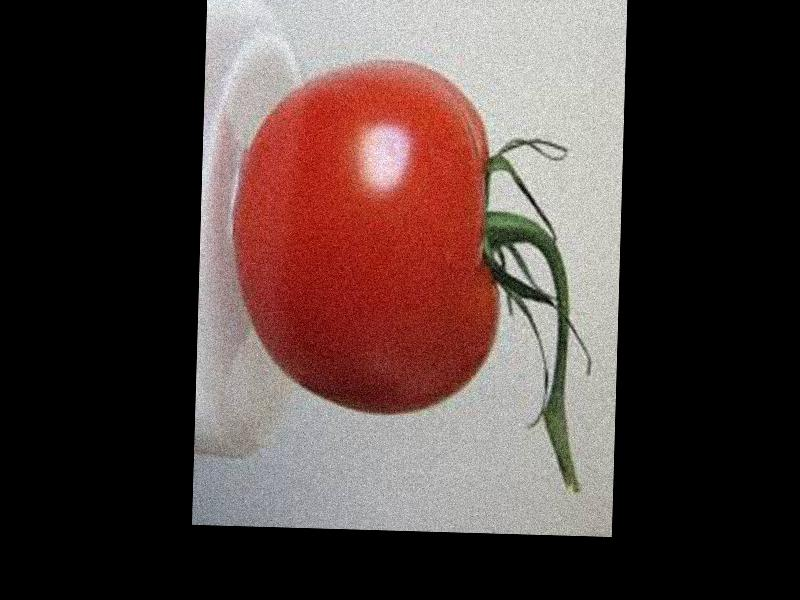Tomato: (229, 56, 505, 418)
